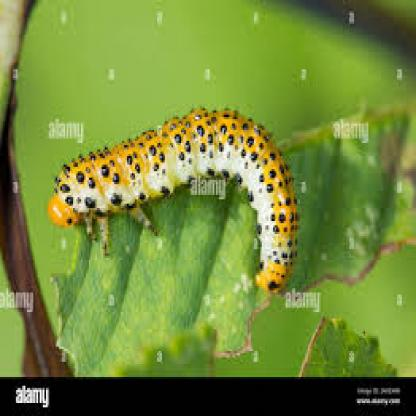sawfly: (44, 104, 301, 294)
